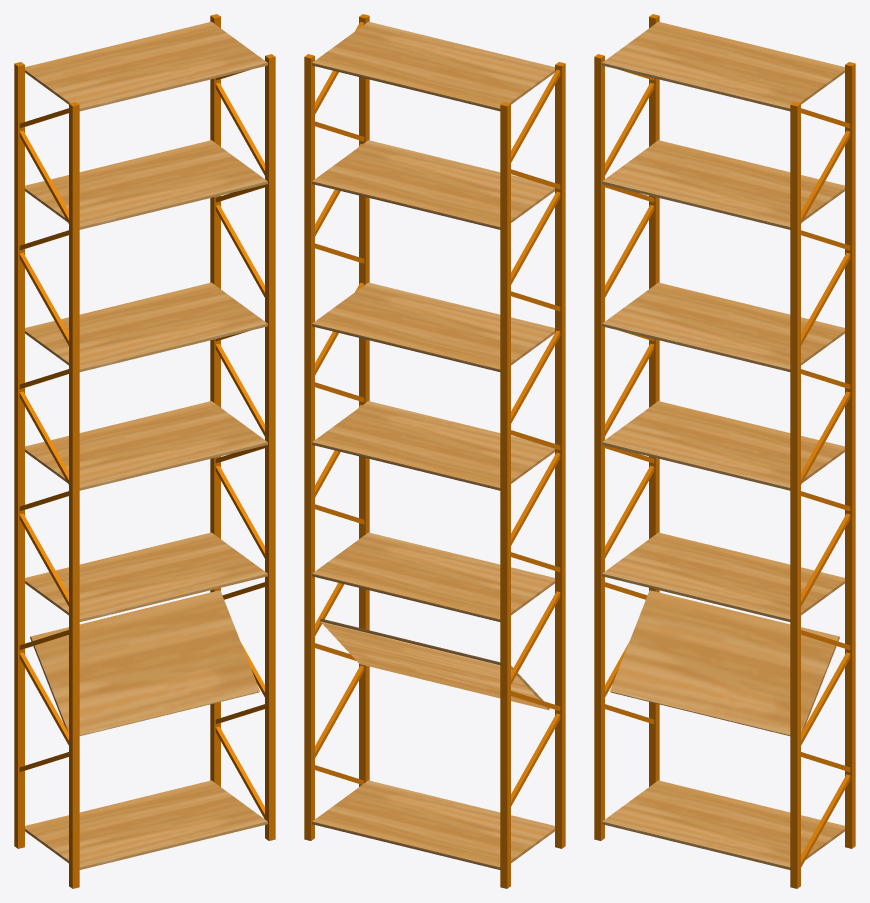
The model's file is Industrial_Rack_13.fbx.
3 views of the same model, side by side, from view 1: azimuth 30°, elevation 25°; view 2: azimuth 150°, elevation 25°; view 3: azimuth 330°, elevation 25° (orthographic).
Parts seen in each view (by area): view 1: Industrial_Rack_13; view 2: Industrial_Rack_13; view 3: Industrial_Rack_13.
Part boxes in pixels (x1,y1,x2,y2): Industrial_Rack_13: [14, 14, 275, 888]; Industrial_Rack_13: [304, 14, 565, 888]; Industrial_Rack_13: [594, 14, 855, 888].
Size of the model in its own units: 2 by 7.37 by 1.
